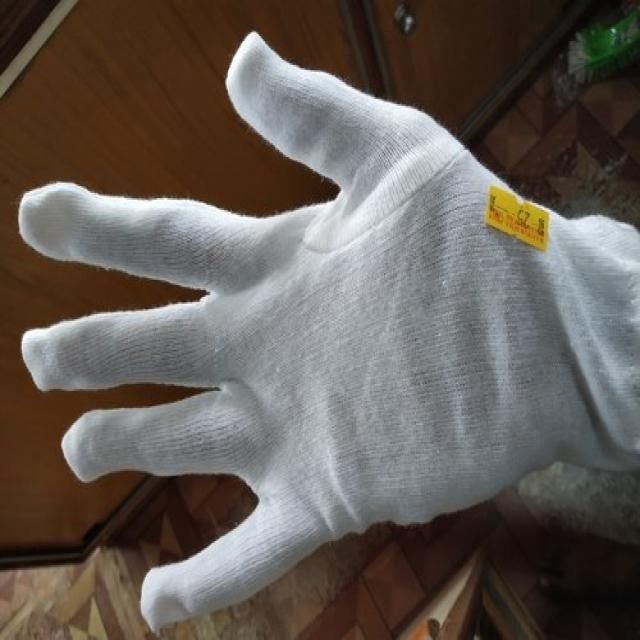gloves: (19, 31, 640, 631)
